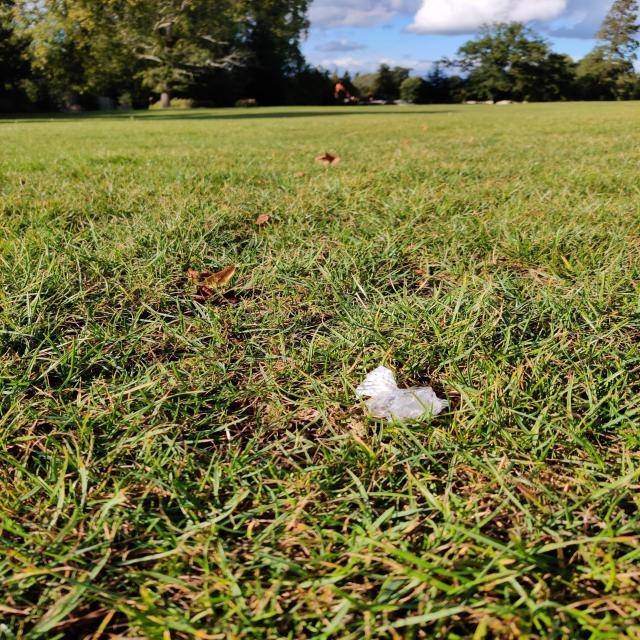litter: (339, 355, 452, 440)
